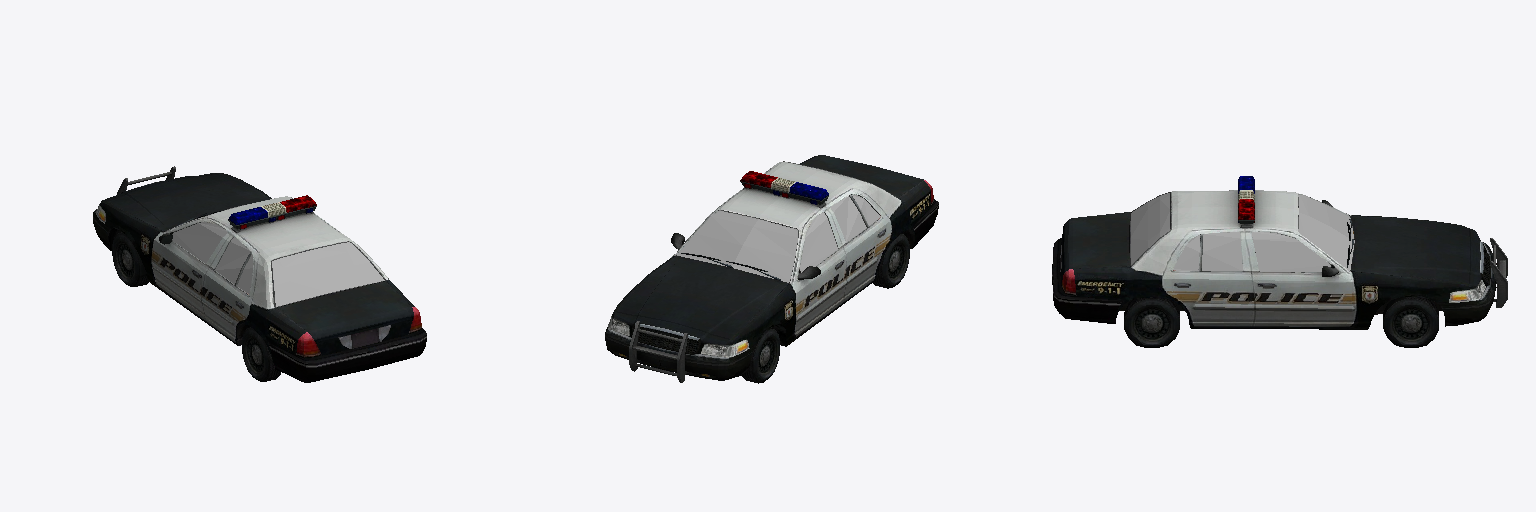
3 views of the same model, side by side, from view 1: azimuth 30°, elevation 25°; view 2: azimuth 150°, elevation 25°; view 3: azimuth 270°, elevation 25° (orthographic).
Visible parts, largest first — view 1: Object_police_car.jpg, Object_car_glass.jpg, Object_police_car3.jpg; view 2: Object_police_car.jpg, Object_car_glass.jpg, Object_police_car3.jpg; view 3: Object_police_car.jpg, Object_car_glass.jpg, Object_police_car3.jpg.
Part boxes in pixels (bbox=[...]): Object_police_car.jpg: bbox=[93, 166, 426, 382]; Object_car_glass.jpg: bbox=[172, 205, 384, 306]; Object_police_car3.jpg: bbox=[228, 195, 316, 229]; Object_police_car.jpg: bbox=[605, 155, 938, 383]; Object_car_glass.jpg: bbox=[678, 195, 880, 282]; Object_police_car3.jpg: bbox=[740, 171, 828, 204]; Object_police_car.jpg: bbox=[1052, 190, 1507, 347]; Object_car_glass.jpg: bbox=[1131, 193, 1354, 271]; Object_police_car3.jpg: bbox=[1238, 176, 1254, 223].
Bounding box in the file's own units: 0.9334 × 0.7449 × 2.5.
Materials: 5 (2 with a texture image).